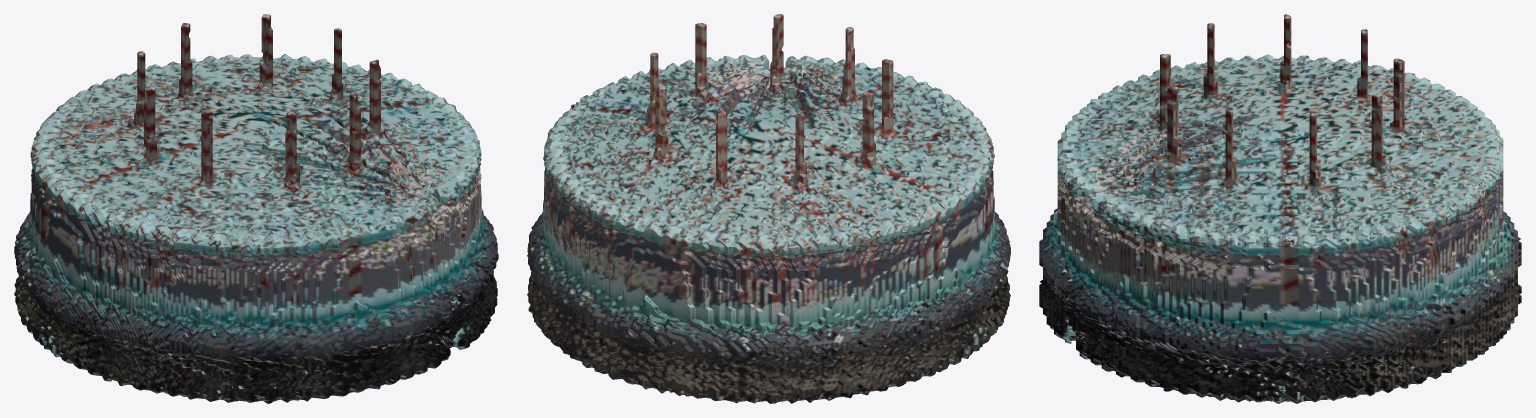
File: carved.glb
3 views of the same model, side by side, from view 1: azimuth 30°, elevation 25°; view 2: azimuth 150°, elevation 25°; view 3: azimuth 270°, elevation 25° (orthographic).
Visible parts, largest first — view 1: geometry_0; view 2: geometry_0; view 3: geometry_0.
Boxes of the visible parts, box(x1,y1,x2,y2) form: geometry_0: box(14, 14, 498, 403); geometry_0: box(527, 14, 1010, 403); geometry_0: box(1039, 14, 1521, 403).
Size of the model in its own units: 0.2574 by 0.1798 by 0.2574.
